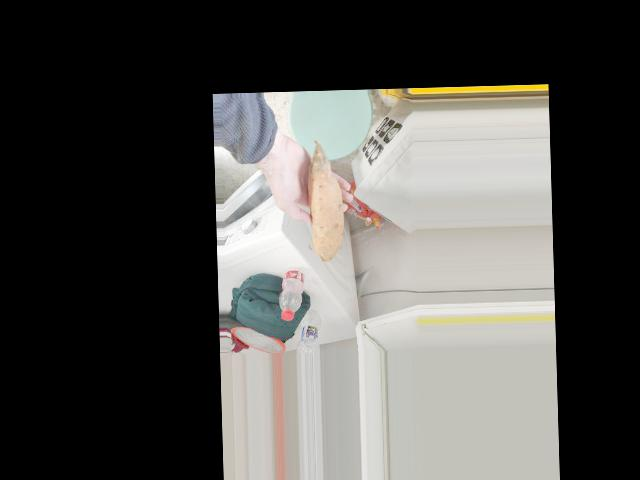sweet_potato: (301, 164, 344, 272)
